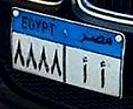8: (50, 48, 62, 78), (13, 38, 25, 66), (38, 46, 49, 74), (26, 43, 37, 69)
alif: (78, 55, 90, 85), (98, 58, 108, 90)
